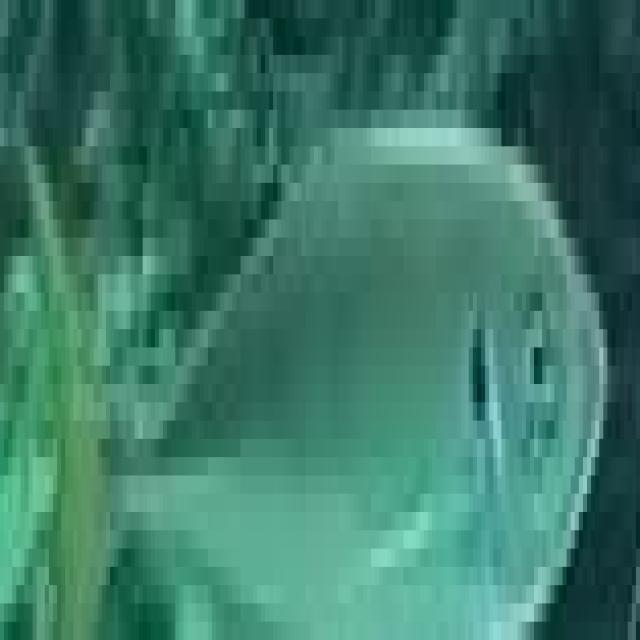fish: (0, 18, 636, 640)
